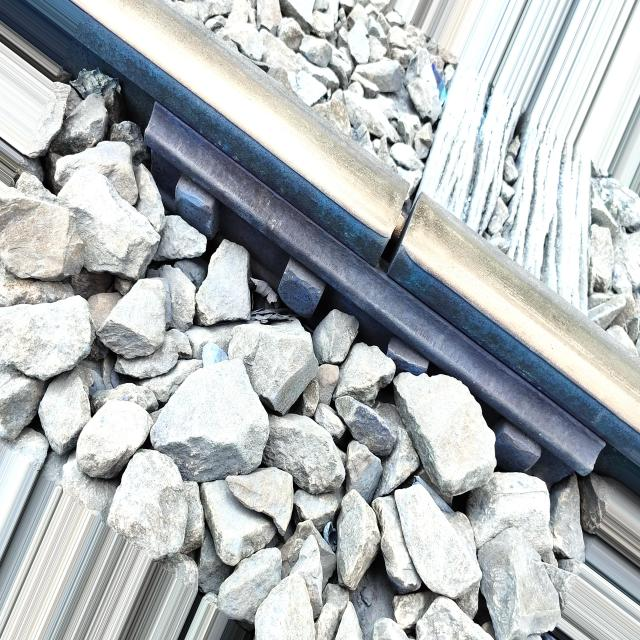crack: (370, 174, 441, 286)
